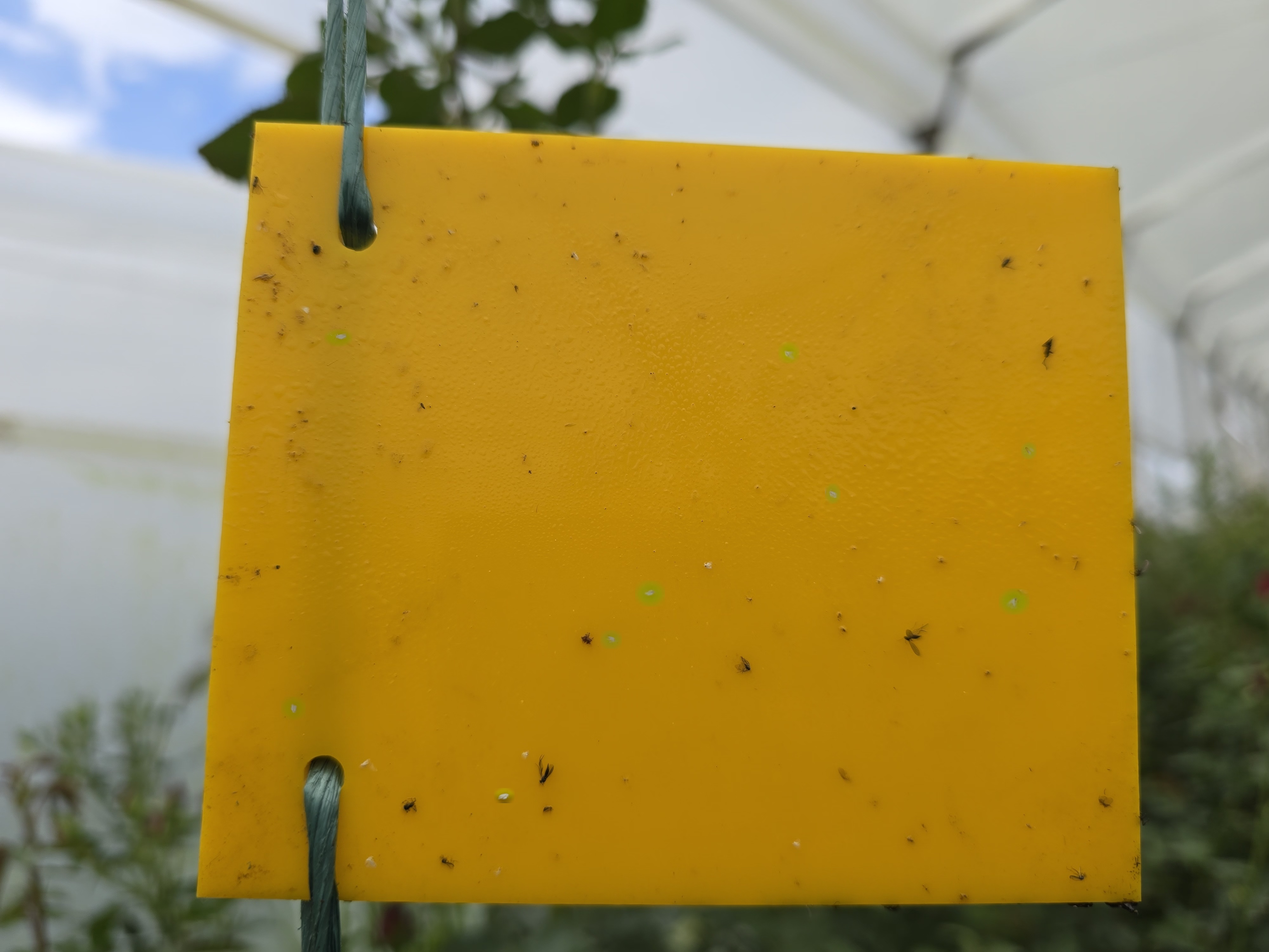WF: (1003, 592, 1025, 611), (640, 584, 660, 602), (285, 700, 302, 716), (781, 345, 796, 360), (328, 332, 348, 343), (603, 633, 618, 646), (517, 748, 532, 759), (359, 758, 372, 770), (497, 790, 511, 801), (827, 486, 838, 500), (876, 575, 887, 587), (1023, 445, 1034, 456), (574, 252, 582, 263), (795, 840, 804, 849), (704, 562, 714, 570)
